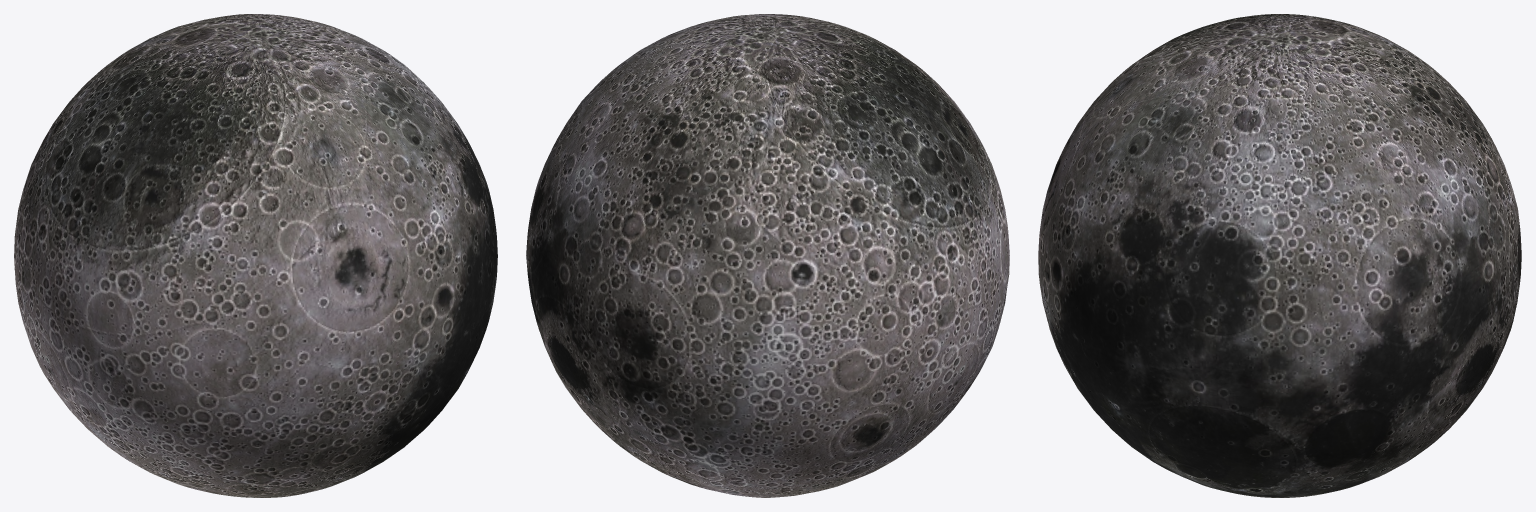
Rendered from moon.glb.
3 views of the same model, side by side, from view 1: azimuth 30°, elevation 25°; view 2: azimuth 150°, elevation 25°; view 3: azimuth 270°, elevation 25° (orthographic).
Parts seen in each view (by area): view 1: moon; view 2: moon; view 3: moon.
Part boxes in pixels (x1=…): moon: x1=14, y1=14, x2=497, y2=497; moon: x1=526, y1=14, x2=1009, y2=497; moon: x1=1038, y1=14, x2=1521, y2=497.
Bounding box in the file's own units: 2 × 2 × 2.
Materials: 1 (1 with a texture image).
